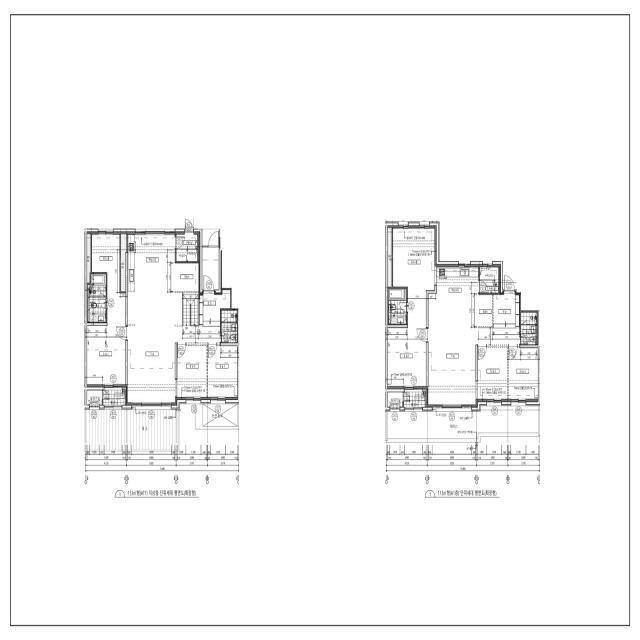space_balconi: (404, 392, 426, 407), (103, 390, 125, 405)
space_bedroom: (388, 291, 426, 389), (87, 326, 125, 387), (177, 346, 207, 400), (208, 346, 237, 400), (478, 348, 507, 402), (509, 348, 538, 401)
space_dressroom: (92, 232, 125, 326), (393, 226, 436, 290)
space_front: (199, 290, 230, 326), (493, 292, 520, 328)
space_kitchen: (128, 232, 182, 326), (428, 265, 479, 328)
space_living_room: (427, 327, 520, 407), (126, 326, 220, 405)
space_multipurpose_space: (176, 232, 197, 261), (480, 265, 498, 293)
space_other: (202, 247, 219, 290), (175, 263, 200, 291), (479, 295, 492, 327), (121, 232, 126, 291), (388, 226, 392, 287), (87, 250, 91, 283), (87, 232, 91, 247)
space_outdoor_room: (87, 390, 102, 405), (388, 392, 403, 407)
space_staircase: (183, 293, 199, 326)
space_toilet: (88, 274, 106, 322), (388, 289, 407, 324), (520, 312, 538, 345), (222, 311, 237, 343)
